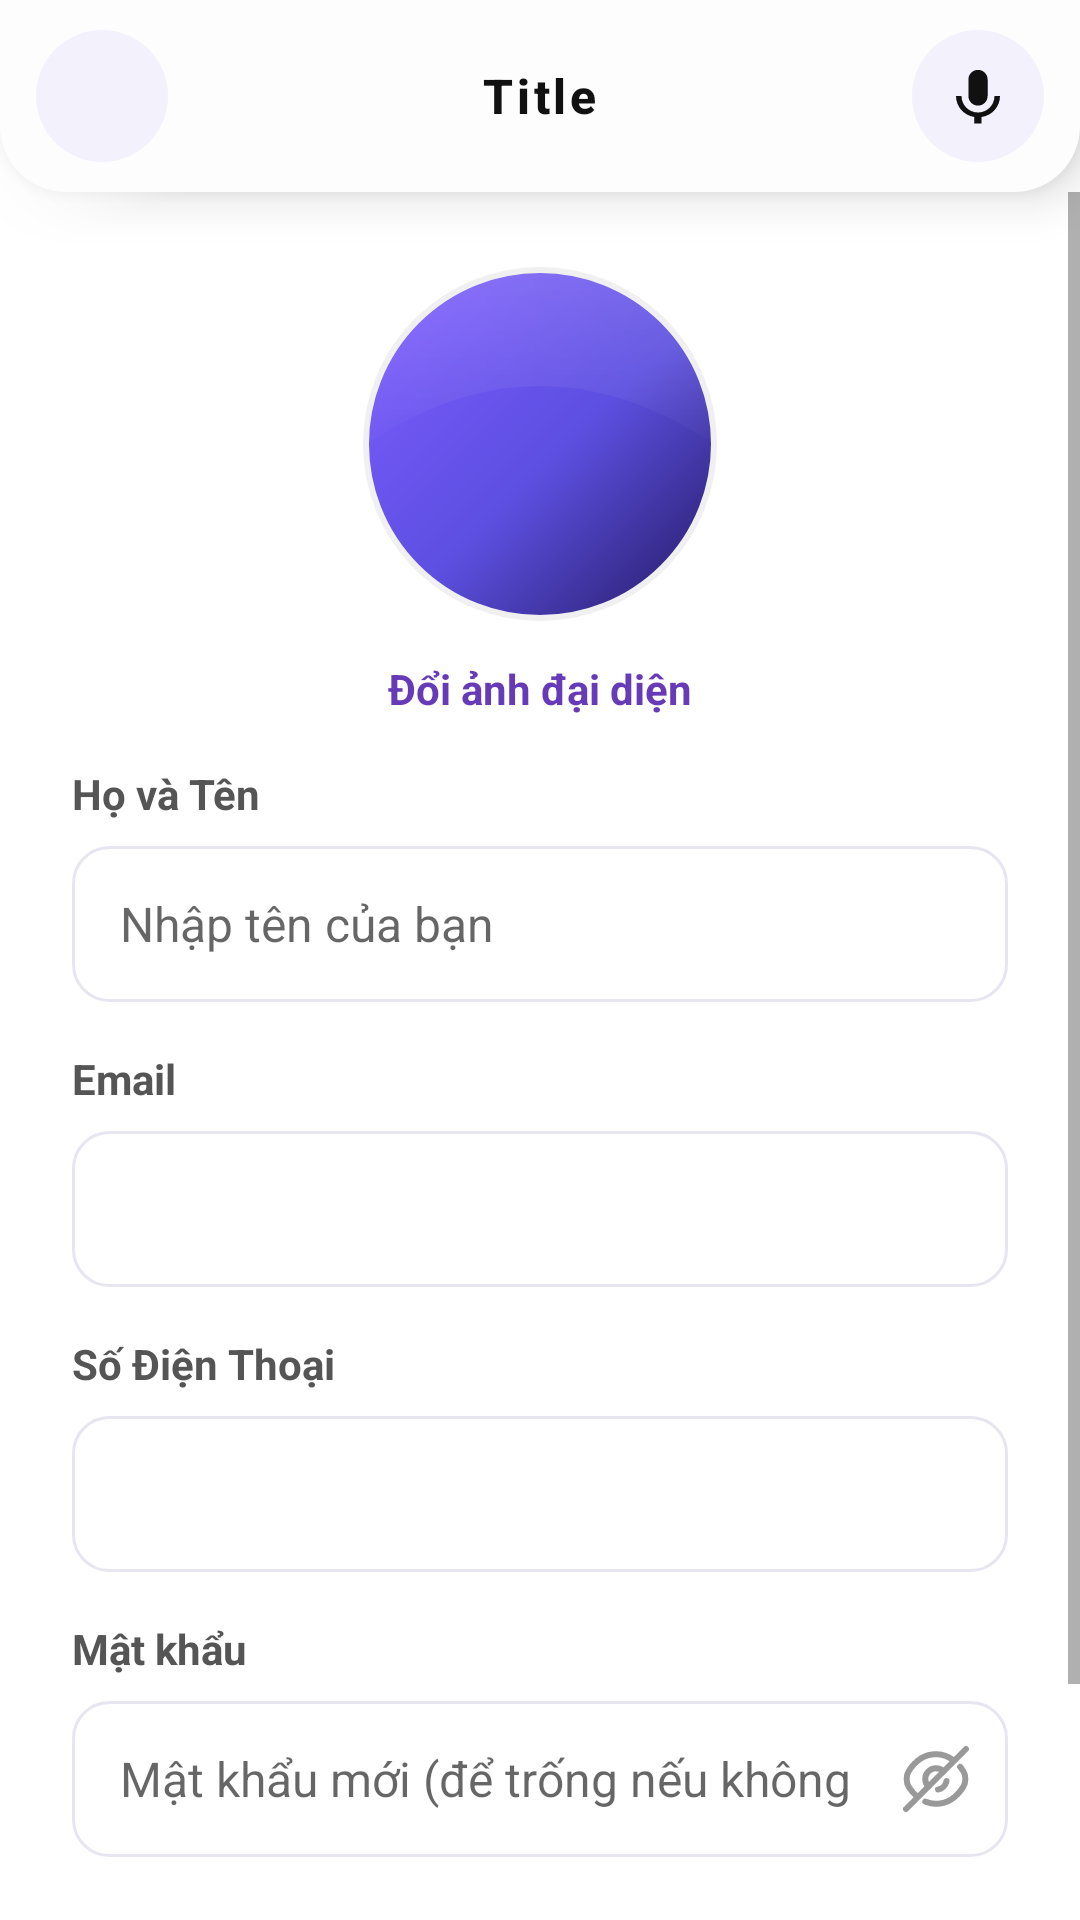

Screen size 1080×1920. Icon name, then its center in pixels as [x,y]:
Trợ lý giọng nói: [978,96]
